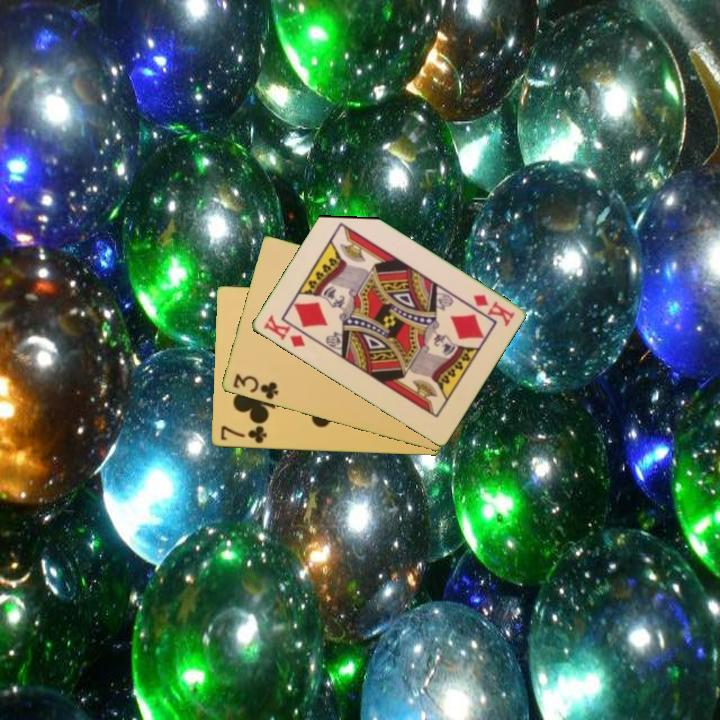3c: (229, 370, 281, 402)
7c: (217, 422, 269, 447)
Kd: (259, 311, 308, 350), (469, 291, 517, 329)
